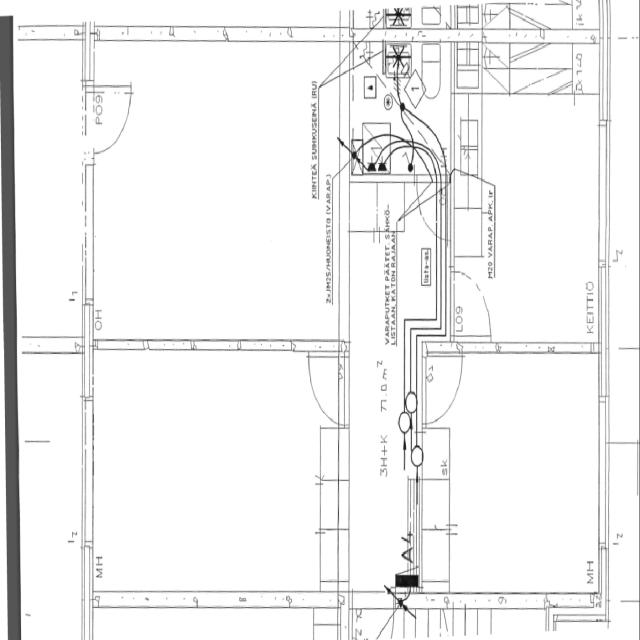door: (451, 266, 494, 342), (423, 349, 464, 427), (306, 349, 344, 425), (96, 86, 133, 157), (416, 190, 441, 234)
window: (241, 333, 296, 361), (93, 333, 152, 357)
zone: (91, 40, 329, 348), (90, 341, 331, 602), (455, 37, 604, 356), (423, 350, 604, 596), (13, 33, 87, 358), (18, 345, 86, 640), (345, 34, 455, 178), (574, 42, 598, 97)
